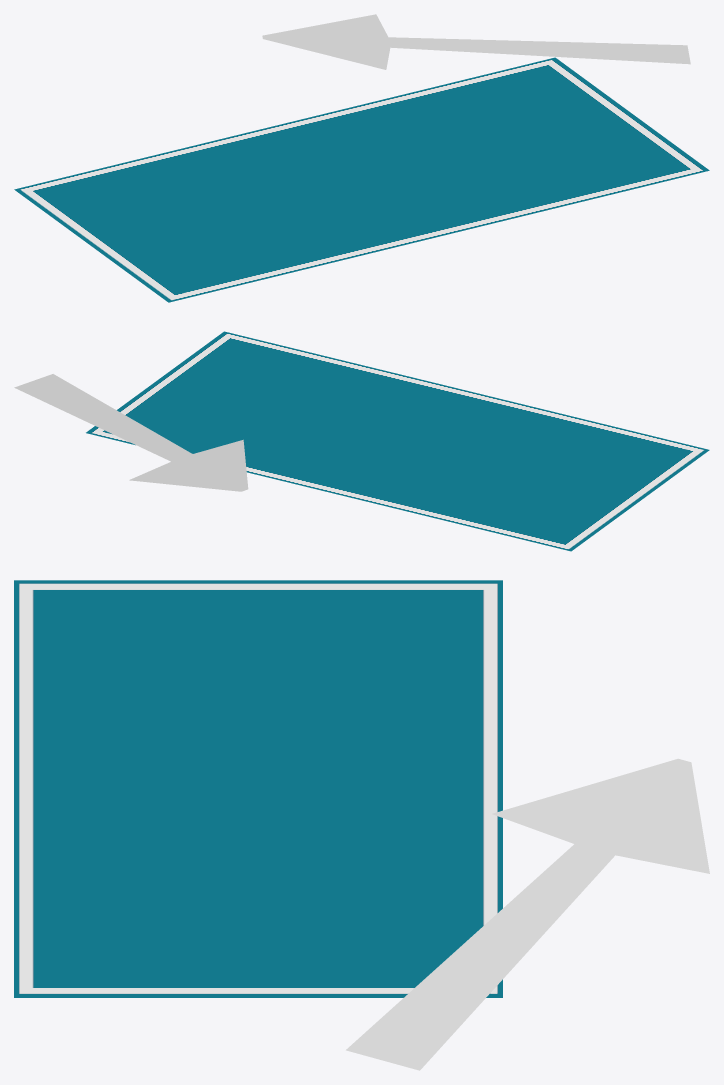
Rendered from CartelTopic1.glb.
3 views of the same model, one above another, from view 1: azimuth 30°, elevation 25°; view 2: azimuth 150°, elevation 25°; view 3: azimuth 270°, elevation 25° (orthographic). The views are drawn at different scales.
Visible parts, largest first — view 1: Plane, Plane.001; view 2: Plane, Plane.001; view 3: Plane, Plane.001.
Part boxes in pixels (x1,y1,x2,y2): Plane: (14, 57, 709, 302); Plane.001: (262, 14, 690, 69); Plane: (86, 331, 709, 551); Plane.001: (14, 374, 248, 491); Plane: (14, 580, 502, 997); Plane.001: (346, 758, 709, 1070).
Size of the model in its own units: 4.83 by 0.2543 by 2.85.
1 material, 1 textured.
